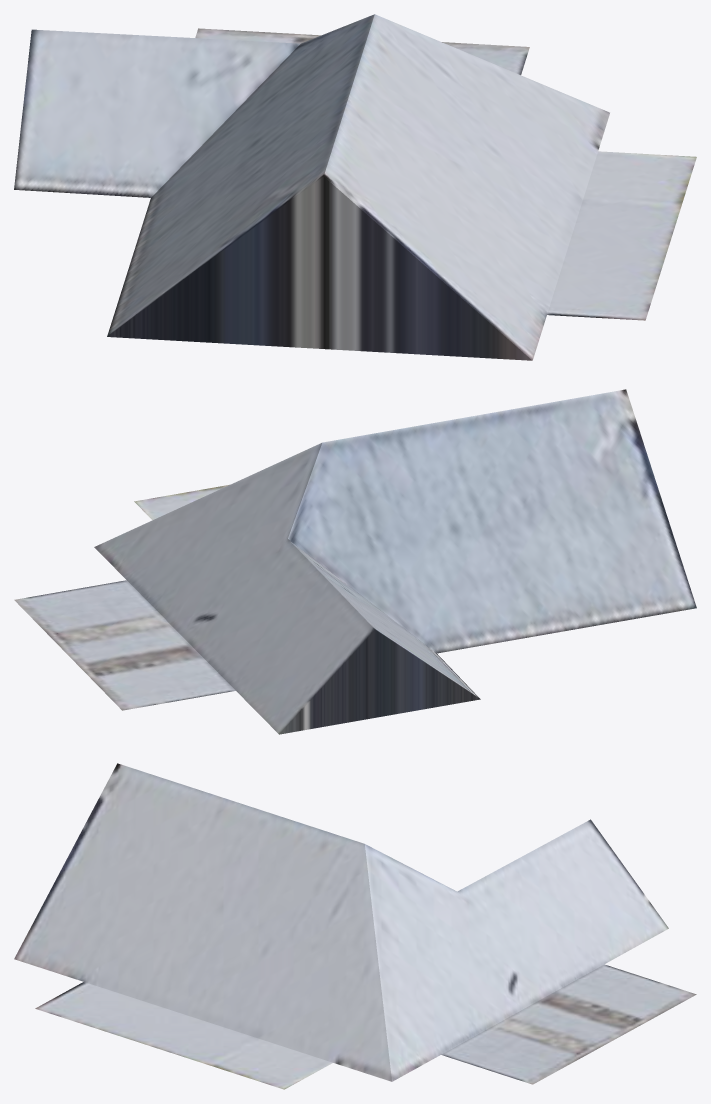
File: BK39_500_014032_0013_roof.obj
The picture shows the model from 3 angles, top to bottom: view 1: azimuth 30°, elevation 25°; view 2: azimuth 150°, elevation 25°; view 3: azimuth 270°, elevation 25°; orthographic projection. The views are drawn at different scales.
Visible parts, largest first — view 1: BK39_500_014032_0013_roof; view 2: BK39_500_014032_0013_roof; view 3: BK39_500_014032_0013_roof.
Part boxes in pixels (bbox=[...]): BK39_500_014032_0013_roof: bbox=[14, 14, 696, 360]; BK39_500_014032_0013_roof: bbox=[14, 389, 696, 734]; BK39_500_014032_0013_roof: bbox=[14, 763, 696, 1089].
Bounding box in the file's own units: 266 × 70 × 312.
Materials: 1 (1 with a texture image).
